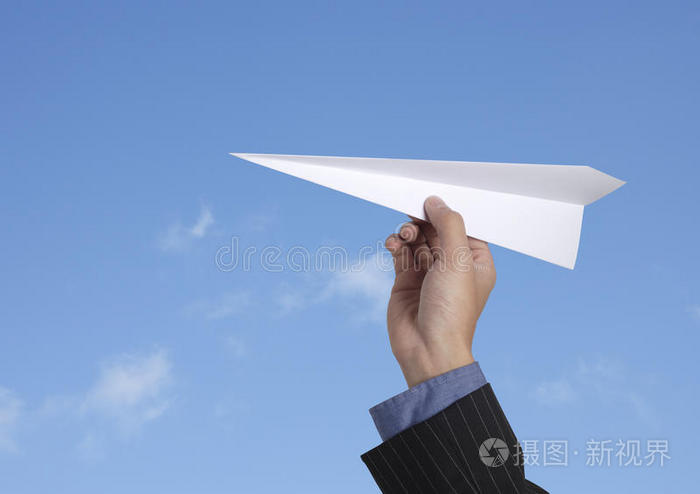no-phone: (237, 113, 622, 359)
